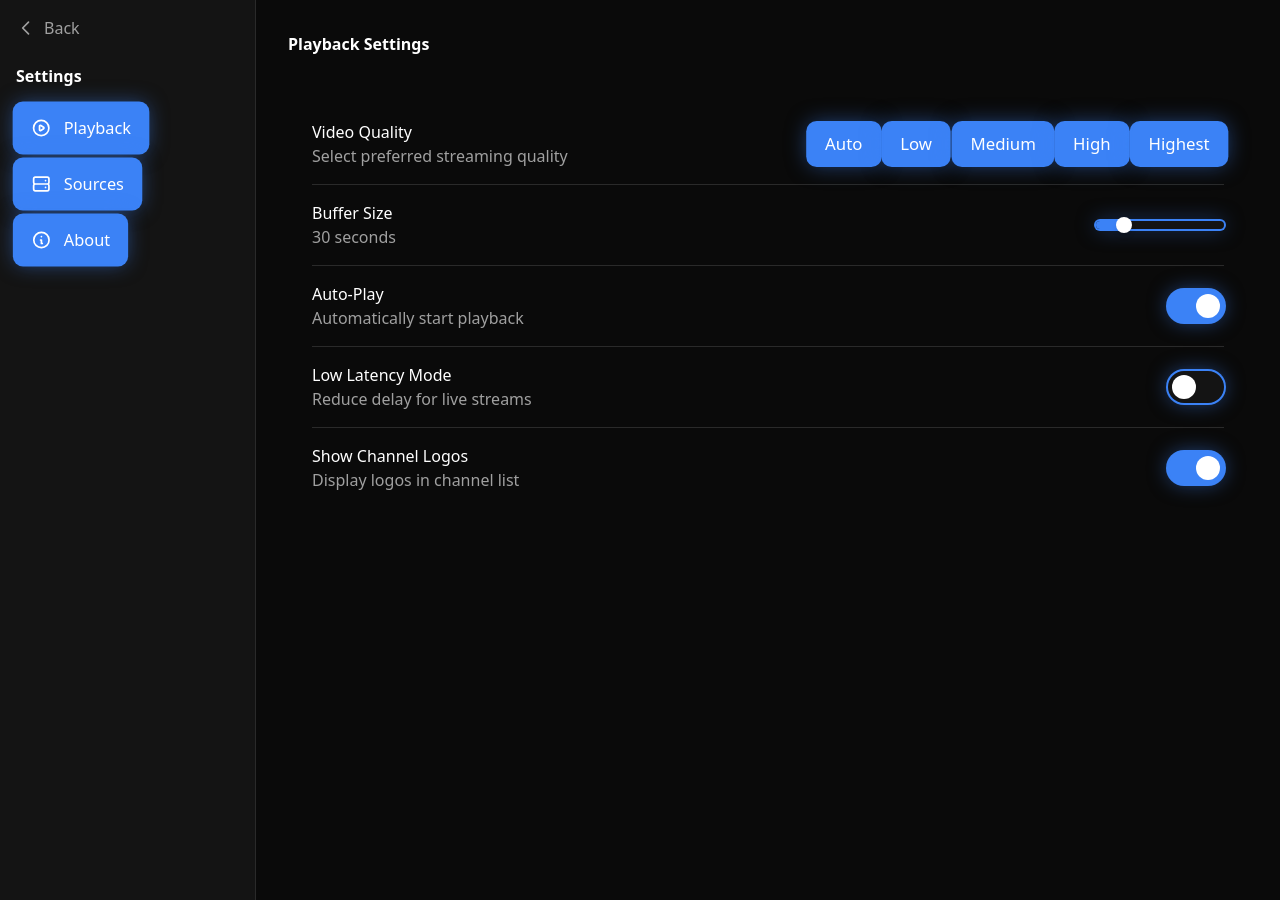
Test: SettingsPage › sources section › should display empty state when no sources
This screenshot has width=1280, height=900.
Step 1. Click the button with test id "settings-nav-sources" → (78, 184), box [15,160,140,208]
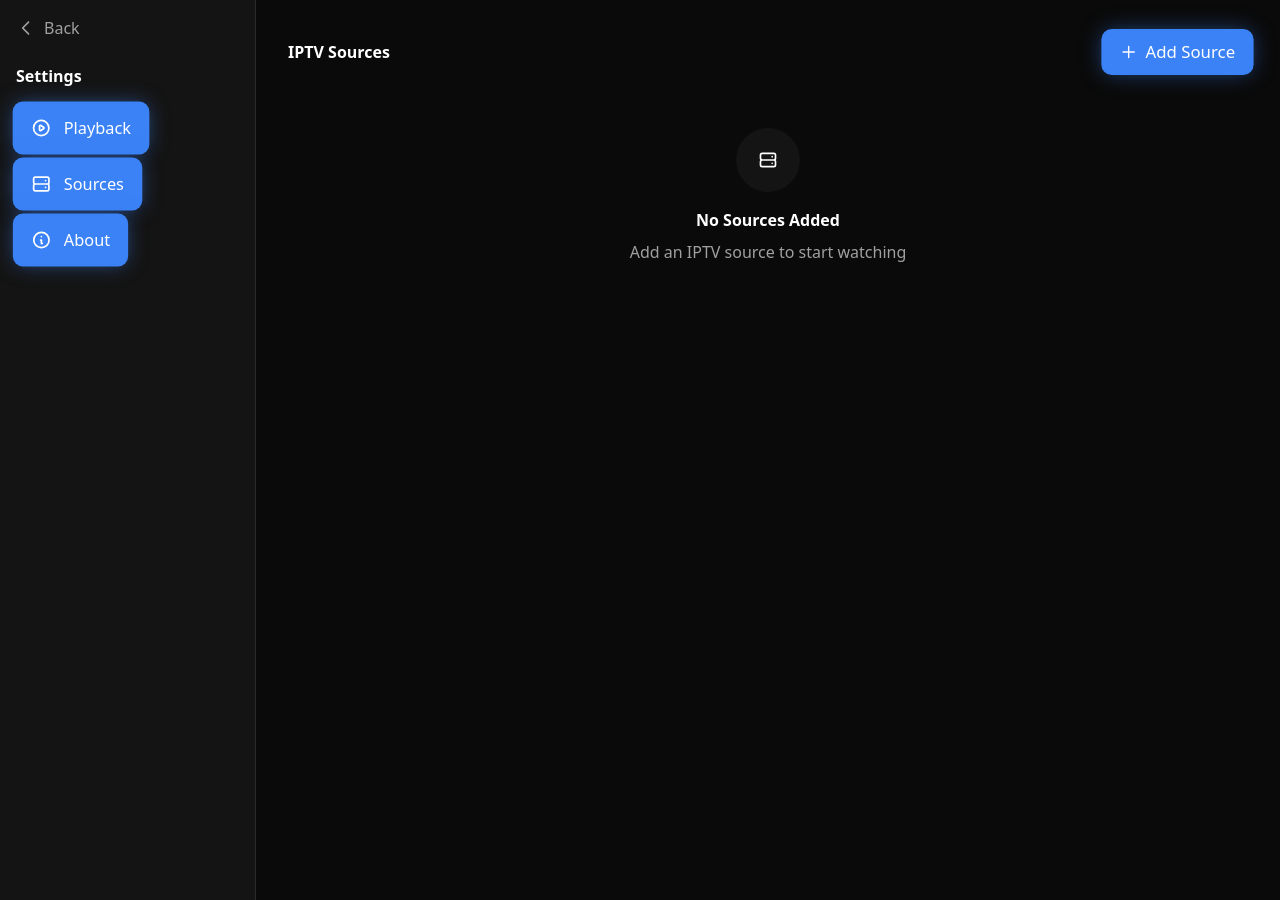
Result: the heading "No Sources Added" is shown at [696,209,840,231]
Result: the text "Add an IPTV source to start watching" is shown at [630,241,906,263]
